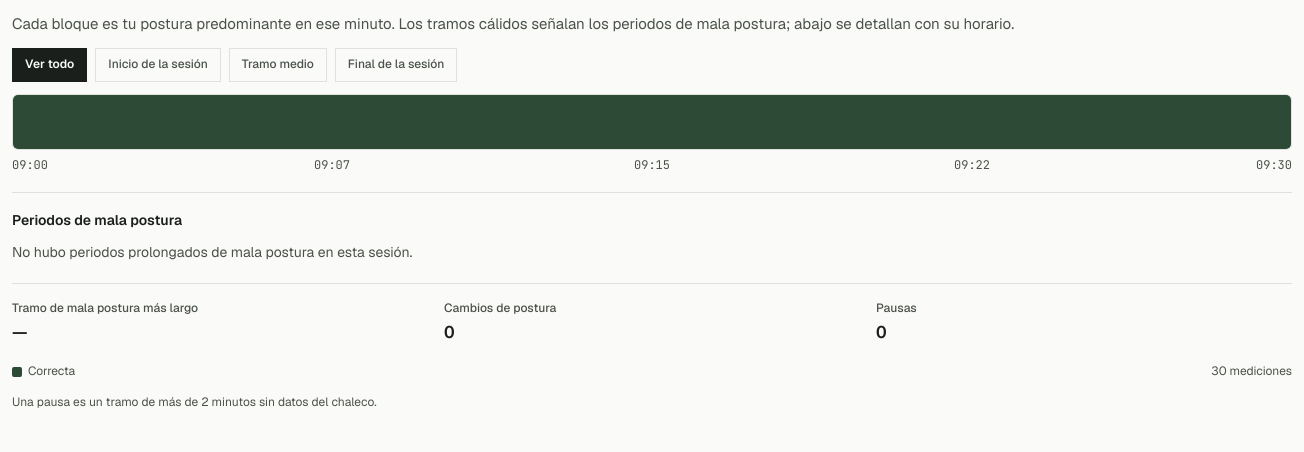
Test: SessionTimelineChart — zoom (US010) › activar un tramo reduce la ventana visible y lo refleja en el texto
Click the button "Inicio de la sesión".
click(158, 65)  # box 95,48 -> 221,82
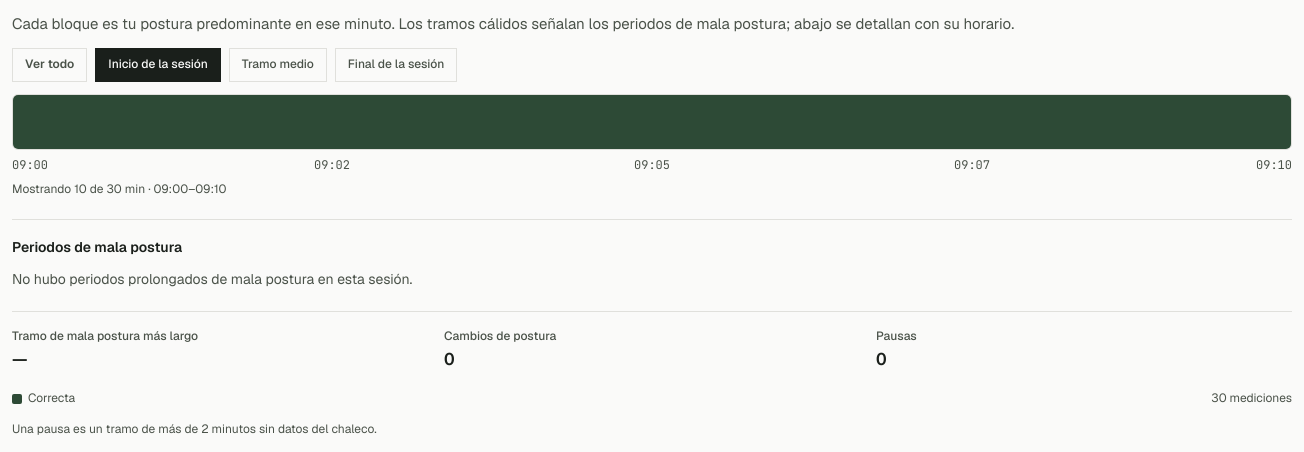
expect the text "Mostrando 10 de 30 min · 09:00–09:10" is shown: met, box 12,181 -> 226,197
